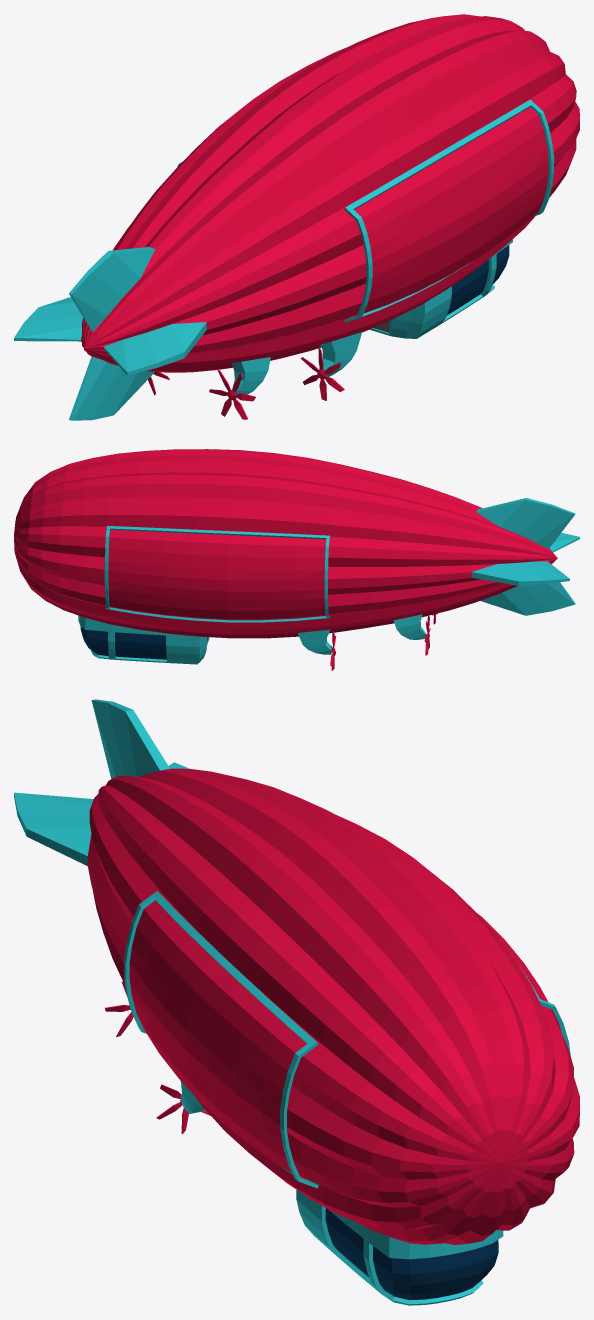
Rendered from Low-Poly_airship.fbx.
3 views of the same model, one above another, from view 1: azimuth 30°, elevation 25°; view 2: azimuth 150°, elevation 25°; view 3: azimuth 270°, elevation 25° (orthographic). The views are drawn at different scales.
Parts seen in each view (by area): view 1: baloon, cube2, wings, cabin_1, cube, sper, propeller4, propeller2; view 2: baloon, cube2, wings, cabin_1, cube1, sper; view 3: baloon, cube2, cabin_1, wings, cube.
Part boxes in pixels (box(x1,y1,x2,y2)): baloon: box(81, 14, 579, 372); cube2: box(354, 107, 548, 316); wings: box(14, 247, 206, 420); cabin_1: box(369, 239, 512, 338); cube: box(344, 99, 554, 322); sper: box(231, 332, 361, 394); propeller4: box(209, 369, 255, 419); propeller2: box(300, 347, 344, 400); baloon: box(14, 449, 557, 638); cube2: box(108, 530, 326, 620); wings: box(471, 498, 579, 615); cabin_1: box(78, 616, 209, 664); cube1: box(104, 526, 329, 622); sper: box(297, 614, 425, 654); baloon: box(87, 768, 579, 1244); cube2: box(129, 900, 561, 1180); cabin_1: box(296, 1190, 503, 1305); wings: box(14, 699, 189, 865); cube: box(124, 891, 318, 1188).
Bounding box in the file's own units: 724 × 287 × 428.
